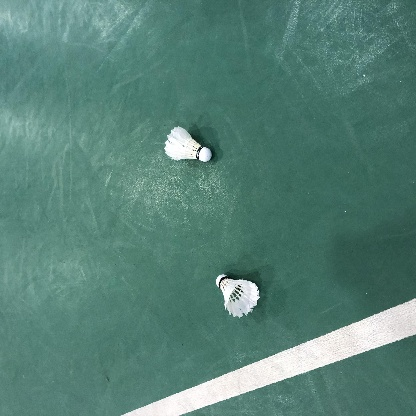ball_single: (216, 274, 260, 317), (164, 126, 211, 162)
